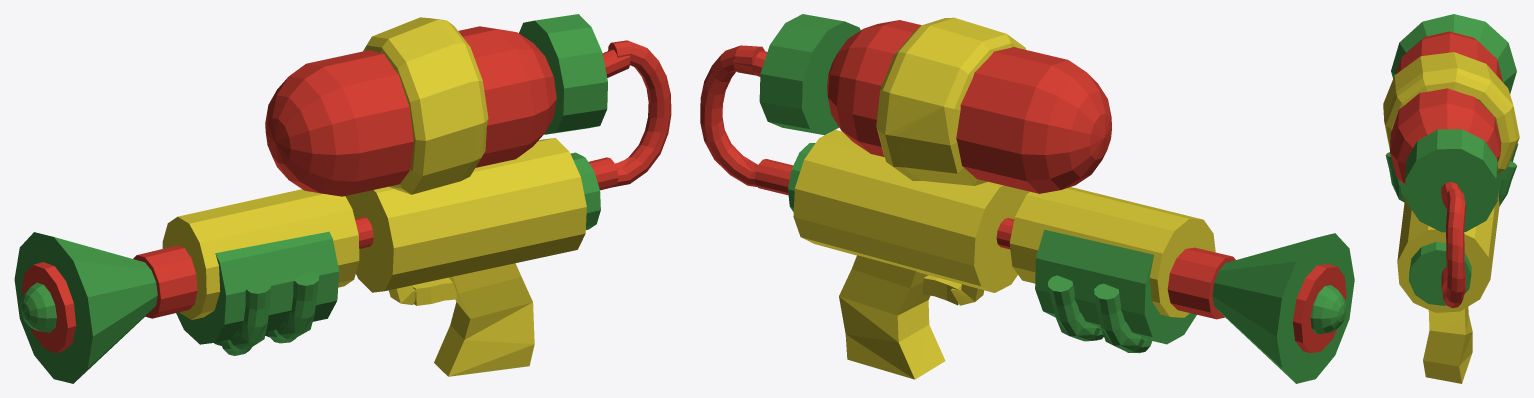
File: rifle.gltf
The picture shows the model from 3 angles, left to right: view 1: azimuth 30°, elevation 25°; view 2: azimuth 150°, elevation 25°; view 3: azimuth 270°, elevation 25°; orthographic projection. The views are drawn at different scales.
Visible parts, largest first — view 1: node_MeshObject330529408-PolyPaper8; view 2: node_MeshObject330529408-PolyPaper8; view 3: node_MeshObject330529408-PolyPaper8.
Boxes of the visible parts, <box> form: node_MeshObject330529408-PolyPaper8: <box>14,14,671,383</box>; node_MeshObject330529408-PolyPaper8: <box>700,14,1354,383</box>; node_MeshObject330529408-PolyPaper8: <box>1383,14,1519,383</box>.
Size of the model in its own units: 0.5704 by 0.2985 by 0.13.
